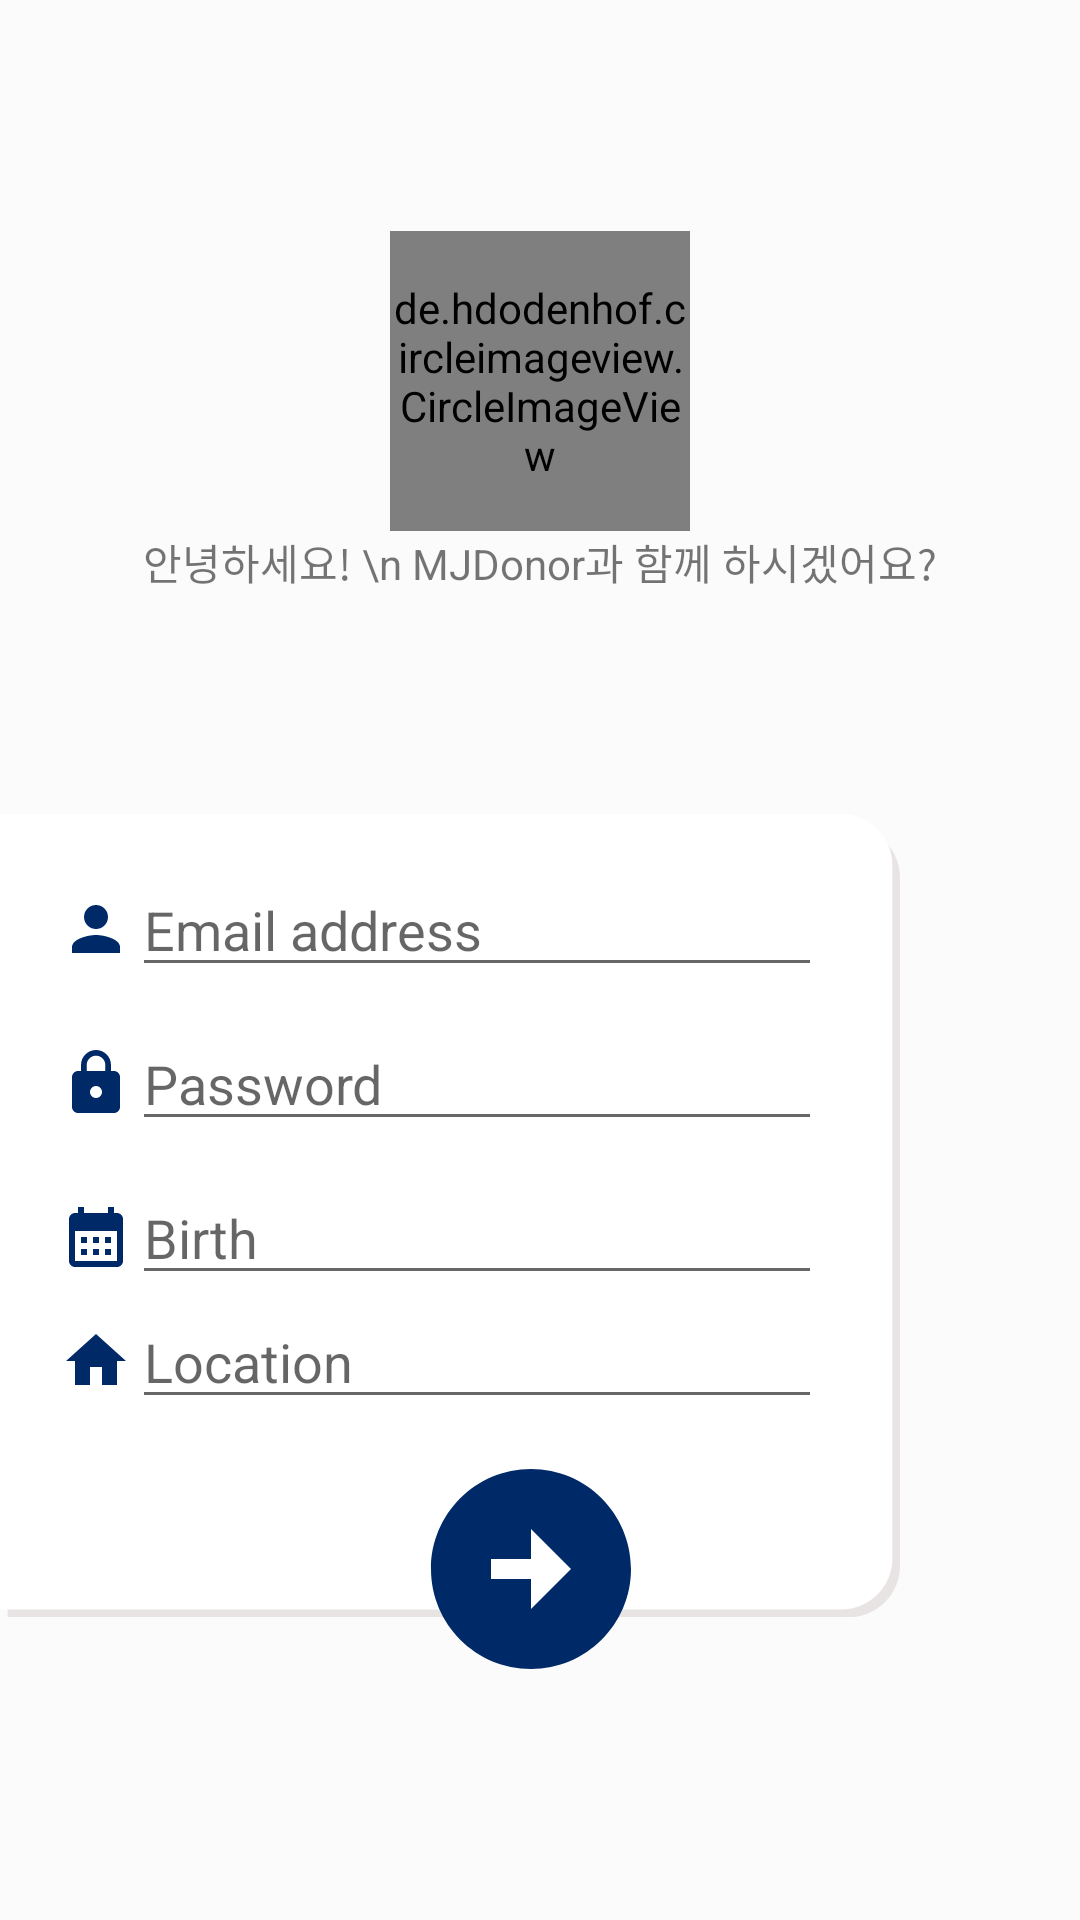

Where to tap for icons on this 1080x1920 app screen, as point (x, y):
arrow circle right: point (531, 1569)
calendar month: point (96, 1237)
home: point (96, 1359)
lock: point (96, 1081)
person: point (96, 929)
